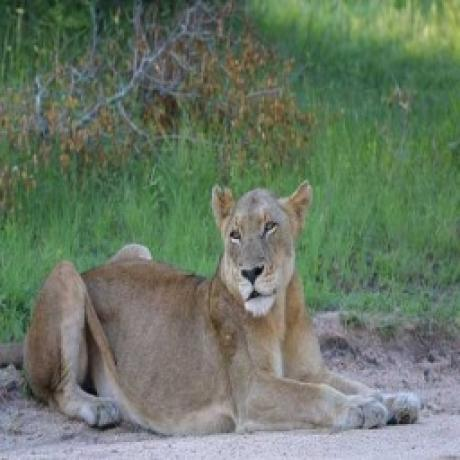Lion: (24, 177, 424, 440)
